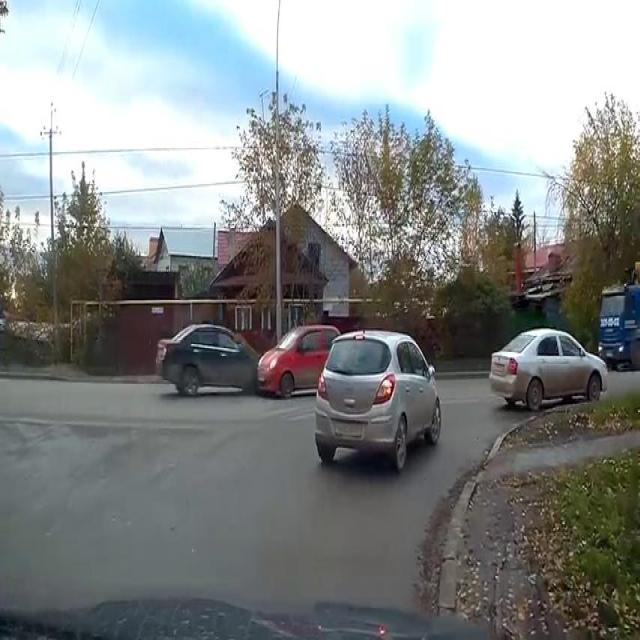moderate: (154, 308, 352, 405)
